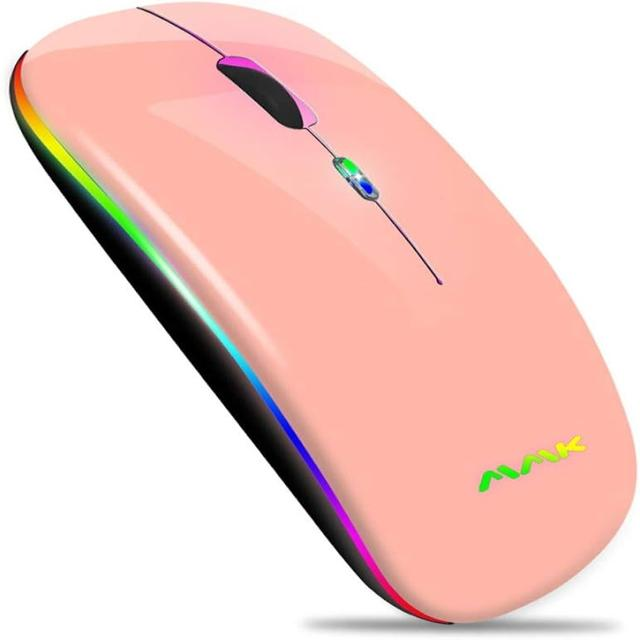mouse: (29, 8, 617, 618)
